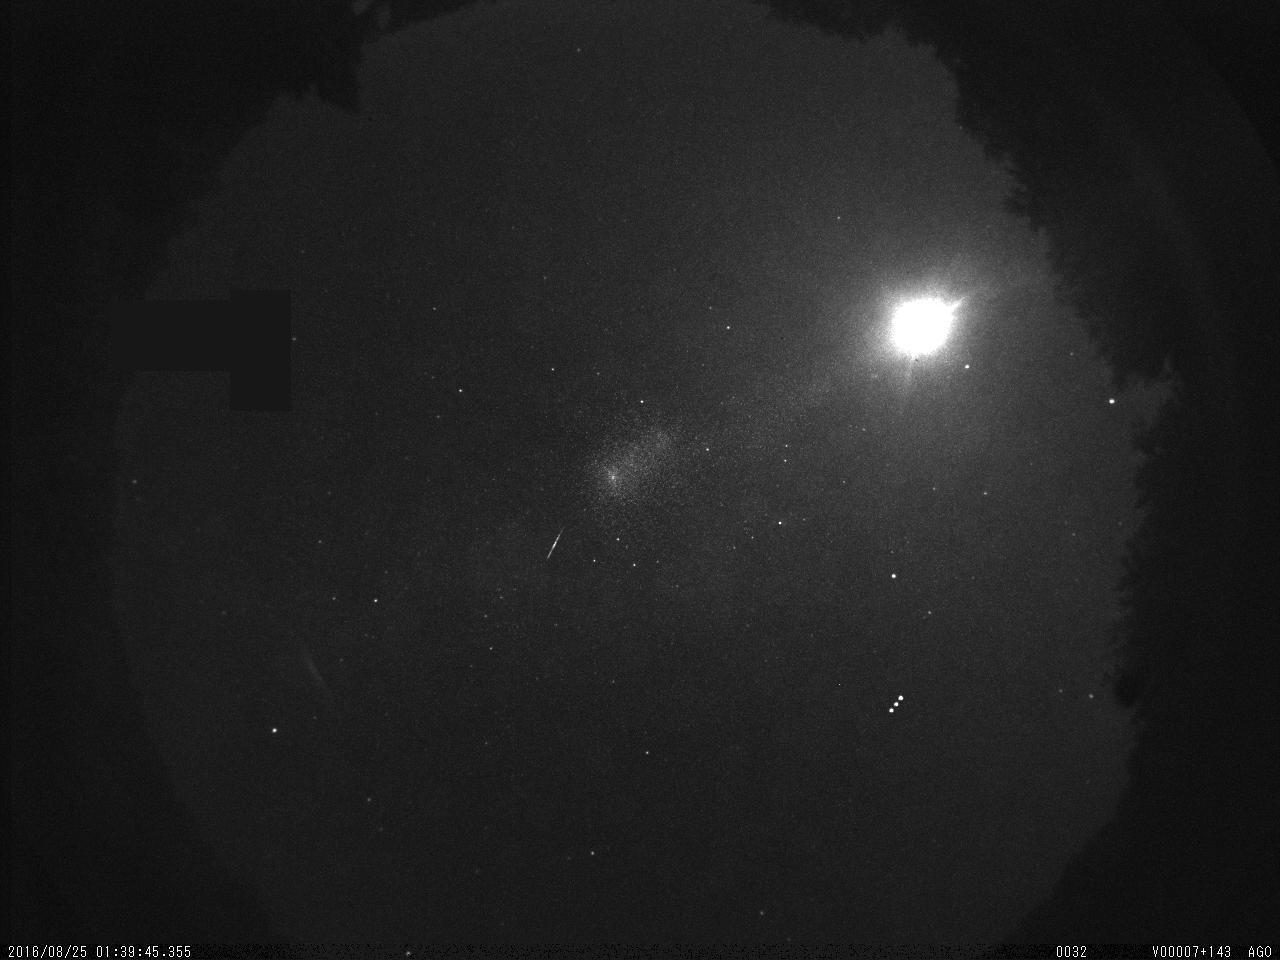meteor: (539, 522, 577, 565)
satelite: (881, 685, 911, 721)
